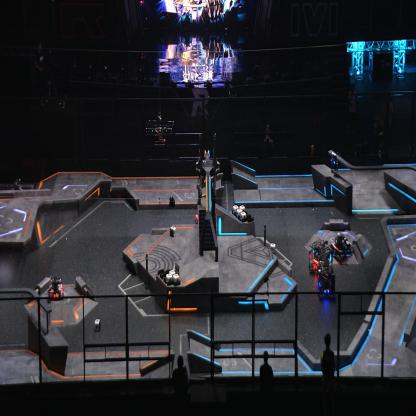car: (308, 239, 334, 273), (314, 259, 334, 301), (330, 232, 351, 263), (46, 273, 64, 304)
